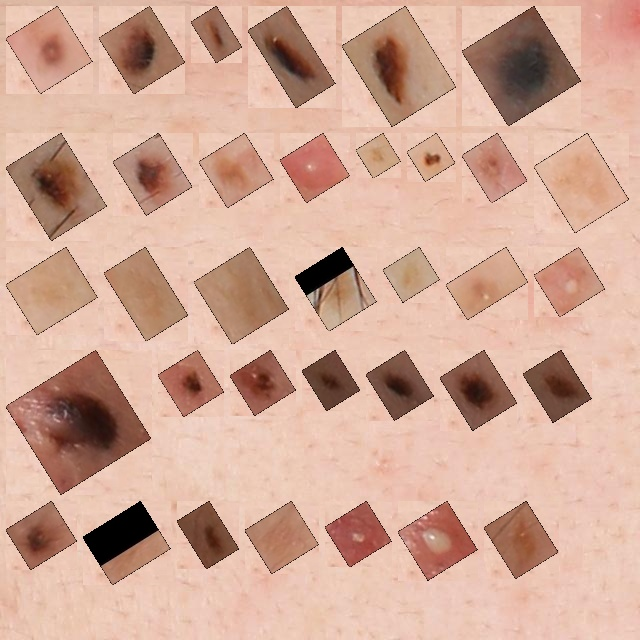melasma: (545, 144, 618, 222), (205, 258, 278, 333), (17, 258, 86, 324), (115, 258, 177, 330), (94, 512, 159, 574), (306, 258, 365, 320), (495, 512, 547, 567), (210, 144, 262, 196), (256, 512, 308, 562), (394, 258, 429, 291), (367, 144, 390, 167)
nevus: (17, 361, 140, 483), (473, 17, 570, 115), (353, 17, 445, 115), (17, 144, 96, 229), (259, 17, 324, 97), (110, 17, 174, 83), (17, 17, 81, 82), (124, 144, 181, 204), (451, 361, 506, 419), (534, 361, 580, 411), (17, 512, 66, 558), (377, 361, 423, 409), (473, 144, 516, 192), (169, 361, 213, 405), (241, 361, 285, 404), (188, 512, 228, 558), (313, 361, 349, 400), (202, 17, 231, 52), (418, 144, 444, 170)
pustule: (409, 512, 466, 569), (545, 258, 594, 306), (291, 144, 339, 191), (336, 512, 380, 556)
